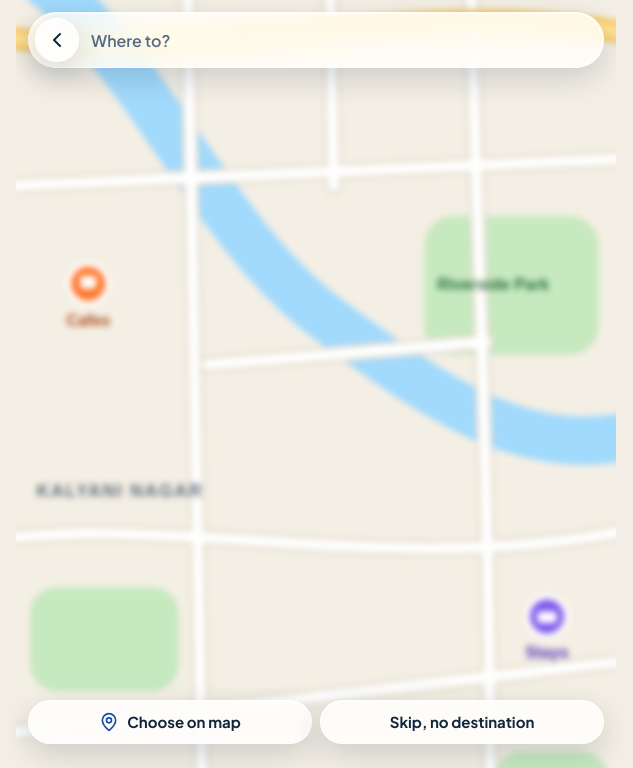
Test: Destination screen › offers the map when place search is unavailable
Type "pune" into the search field named "Search for a place".
click(340, 40); type("pune")  # box [83,18,597,62]
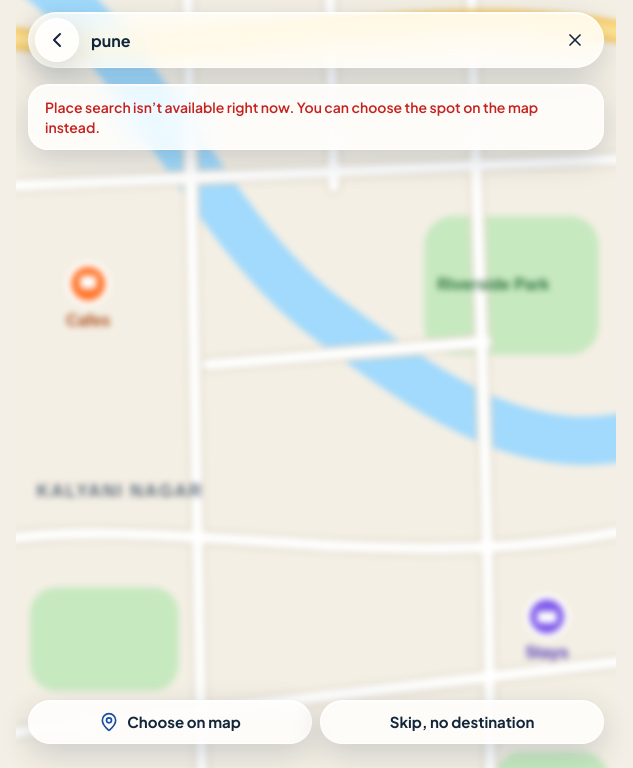
Expected: the message shows "You can choose the spot on the map instead.", [45,98,538,136]
